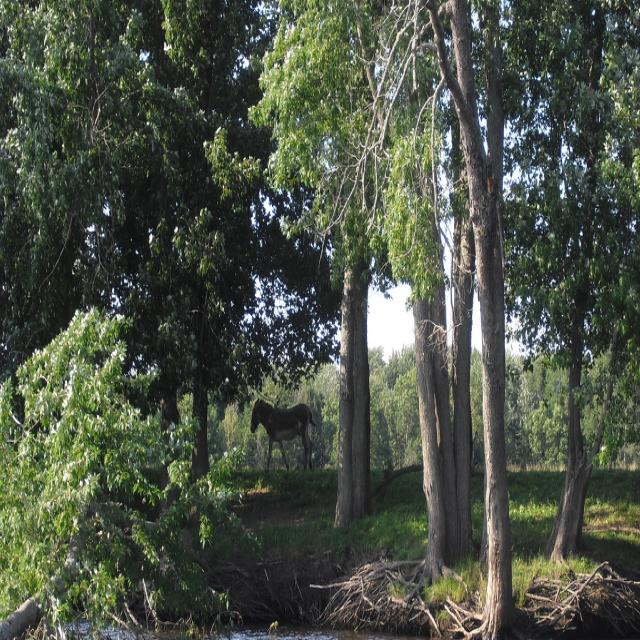Horse: (251, 396, 319, 471)
